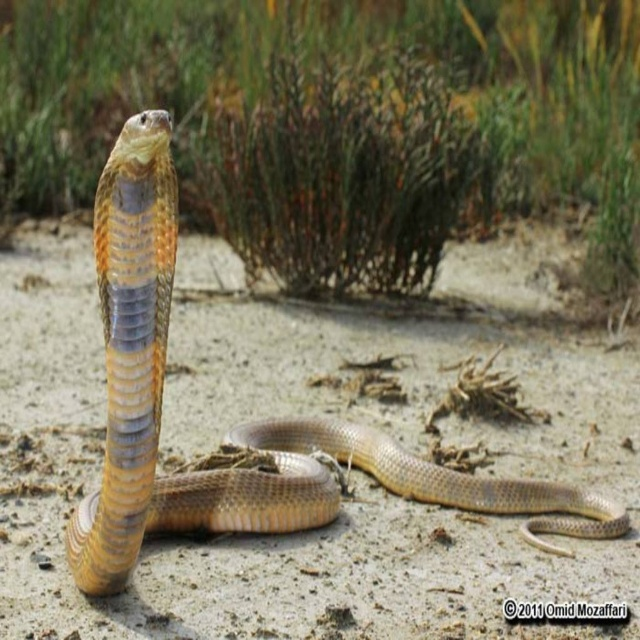Snake: (61, 108, 633, 599)
